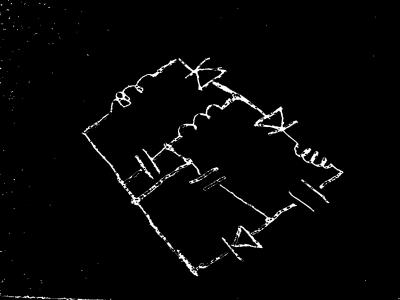capacitor: (105, 68, 159, 120), (174, 101, 228, 141), (292, 139, 335, 172)
diode: (284, 178, 335, 215), (187, 165, 229, 193), (131, 145, 162, 180)
signal: (220, 223, 265, 263), (182, 55, 229, 92), (253, 106, 301, 139)
